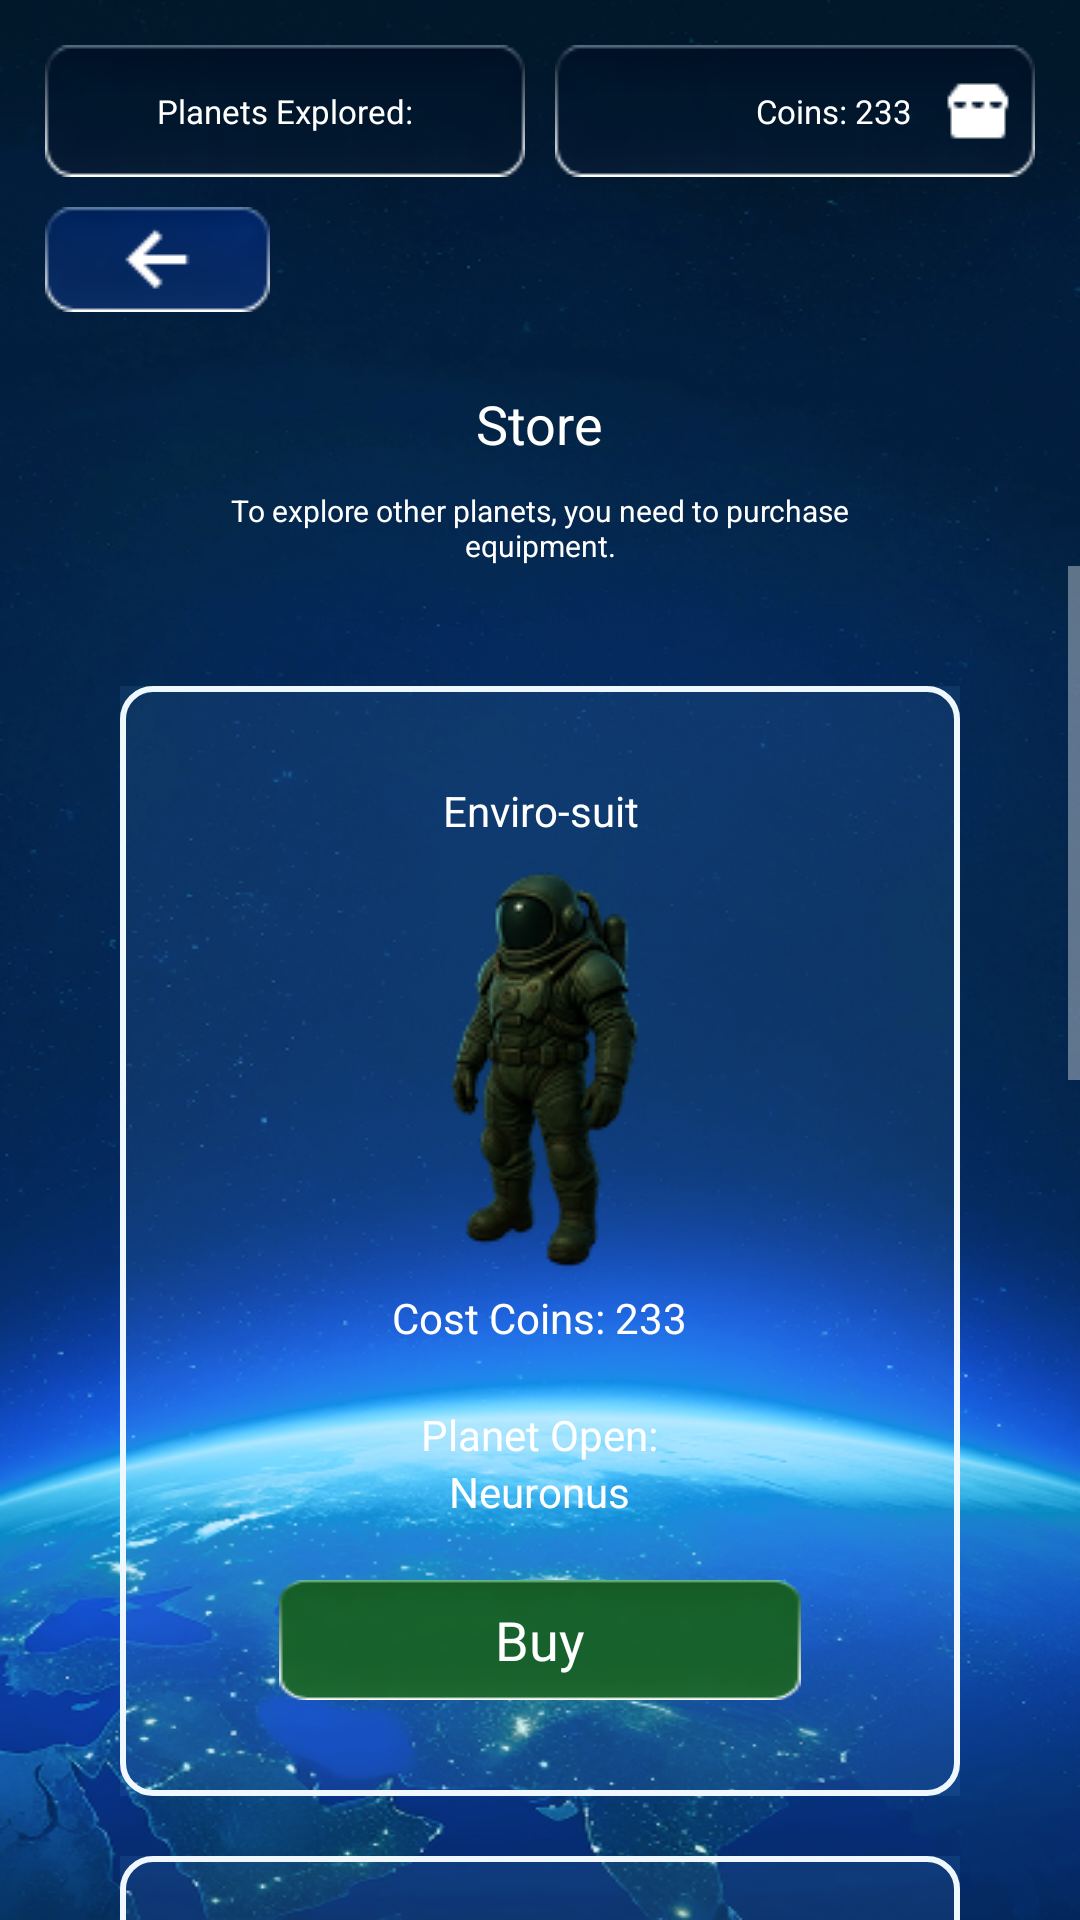

Icons on this 1080 × 1920 Android screen, each with its box as (x1, y1, x2, y2):
back: (45, 207, 270, 312)
